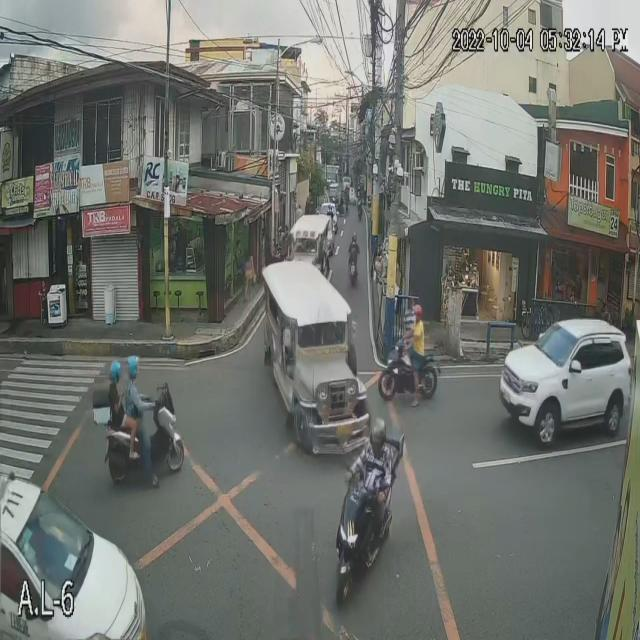Full-Faced: (364, 416, 389, 457), (105, 353, 125, 386), (126, 350, 142, 381), (410, 302, 424, 330), (350, 228, 360, 244)
